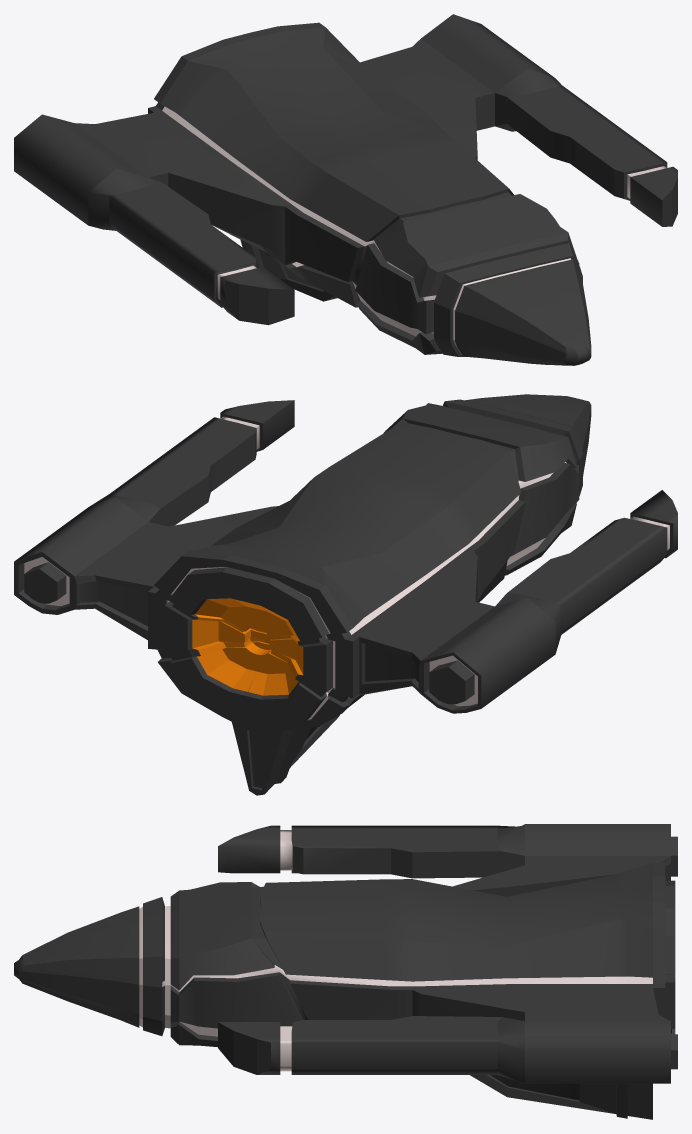
File: navicella_4.fbx
3 views of the same model, one above another, from view 1: azimuth 30°, elevation 25°; view 2: azimuth 150°, elevation 25°; view 3: azimuth 270°, elevation 25° (orthographic).
Visible parts, largest first — view 1: pCube3; view 2: pCube3; view 3: pCube3.
Boxes of the visible parts, <box> form: pCube3: <box>14,14,677,365</box>; pCube3: <box>14,394,677,795</box>; pCube3: <box>14,824,677,1119</box>.
Bounding box in the file's own units: 477 × 229 × 599.
